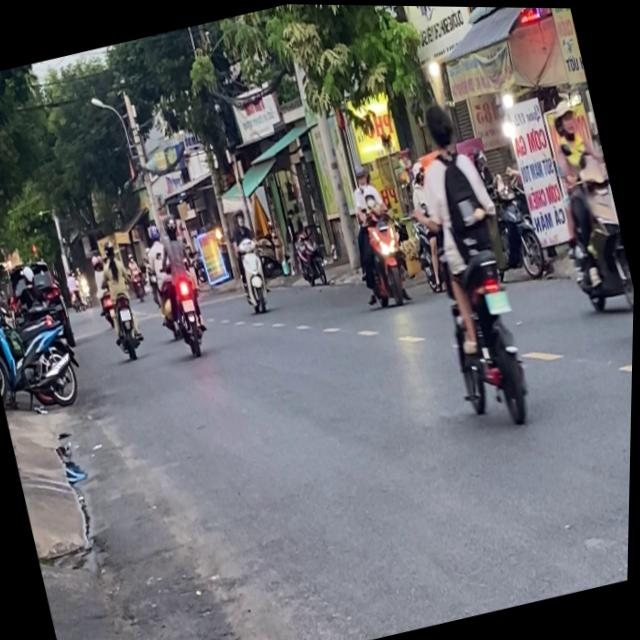helmet: (352, 161, 370, 185)
licenseplate: (388, 86, 550, 432), (528, 87, 639, 323), (334, 155, 419, 311)
motorcyclist: (420, 98, 461, 158), (549, 94, 581, 140)
nohelmet: (484, 284, 512, 312)
